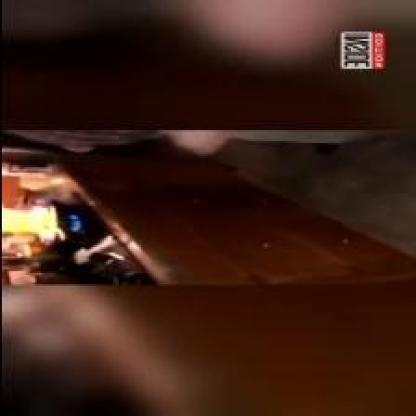Fire: (2, 209, 50, 231)
